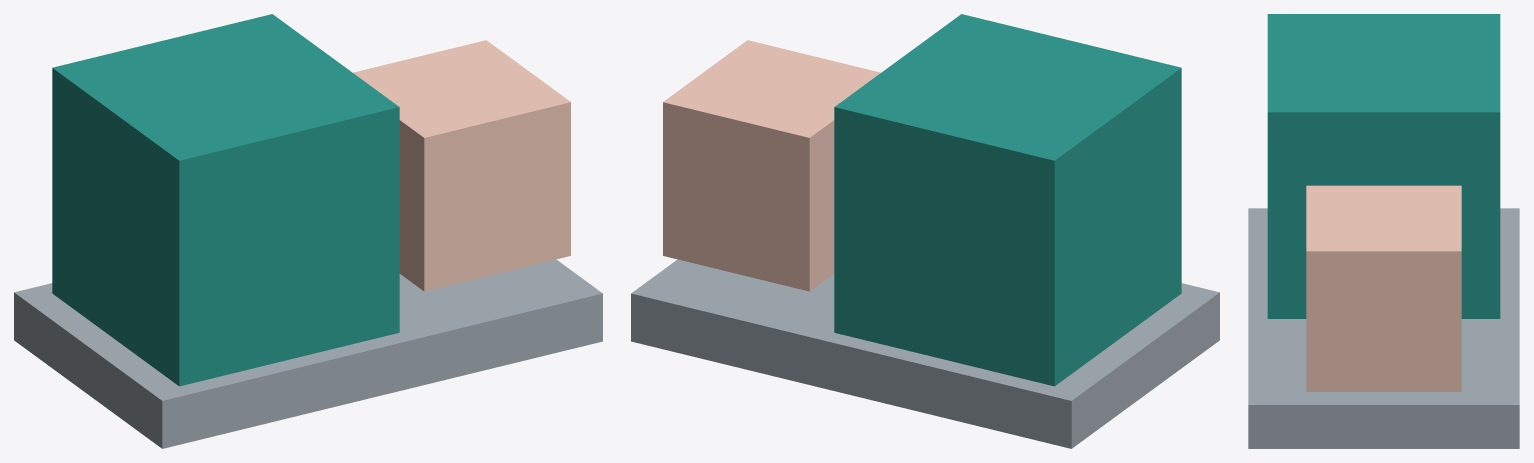
The model's file is normal-map.glb.
The picture shows the model from 3 angles, left to right: view 1: azimuth 30°, elevation 25°; view 2: azimuth 150°, elevation 25°; view 3: azimuth 270°, elevation 25°; orthographic projection. The views are drawn at different scales.
Visible parts, largest first — view 1: Housing, Base, Motor; view 2: Housing, Base, Motor; view 3: Housing, Motor, Base.
Boxes of the visible parts, x1,y1,x2,y2 form: Housing: [52, 14, 399, 386]; Base: [14, 259, 602, 448]; Motor: [353, 40, 570, 291]; Housing: [834, 14, 1181, 386]; Base: [631, 259, 1219, 448]; Motor: [663, 40, 880, 291]; Housing: [1267, 14, 1500, 318]; Motor: [1306, 185, 1461, 391]; Base: [1248, 208, 1519, 448].
Size of the model in its own units: 2.4 by 1.42 by 1.4.
